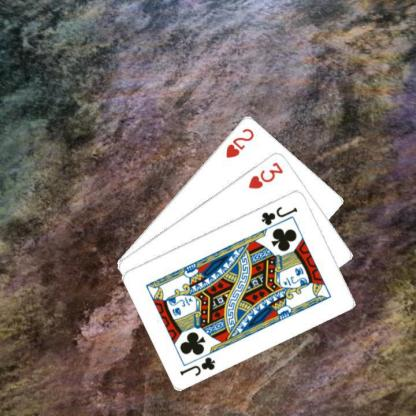2H: (223, 125, 255, 159)
3H: (245, 159, 285, 190)
JC: (176, 354, 216, 377), (259, 204, 299, 226)
